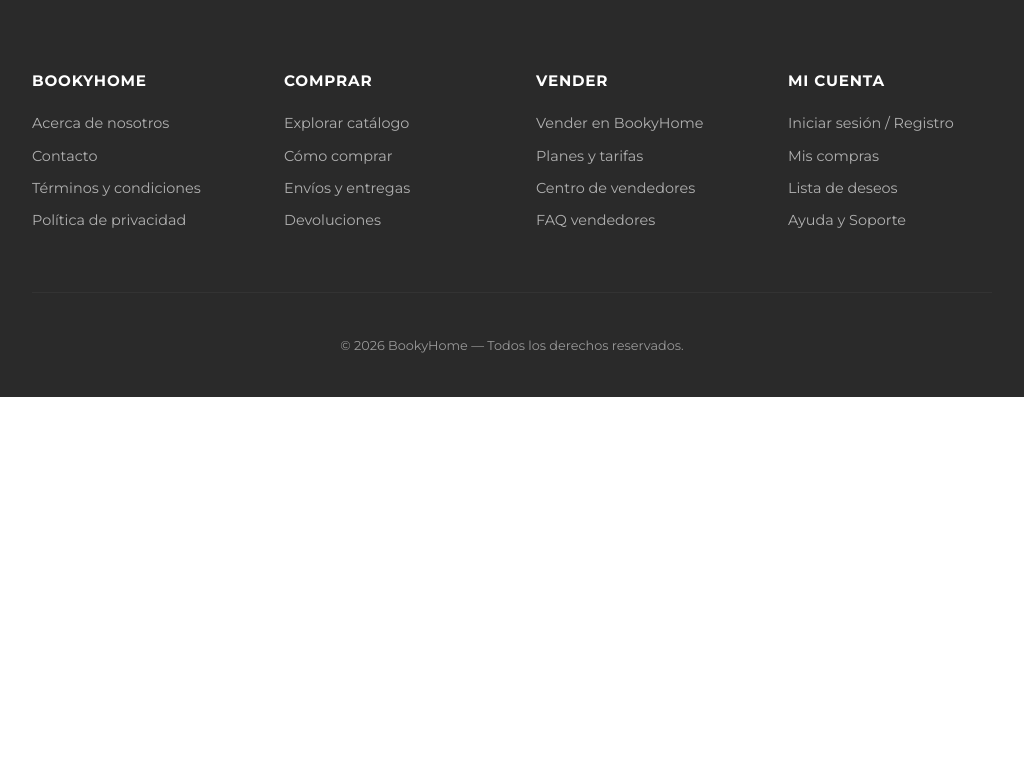
Footer — legal modals open and close › opens Devoluciones modal
Click the button "Devoluciones": point(332, 220) [284,211,381,229]
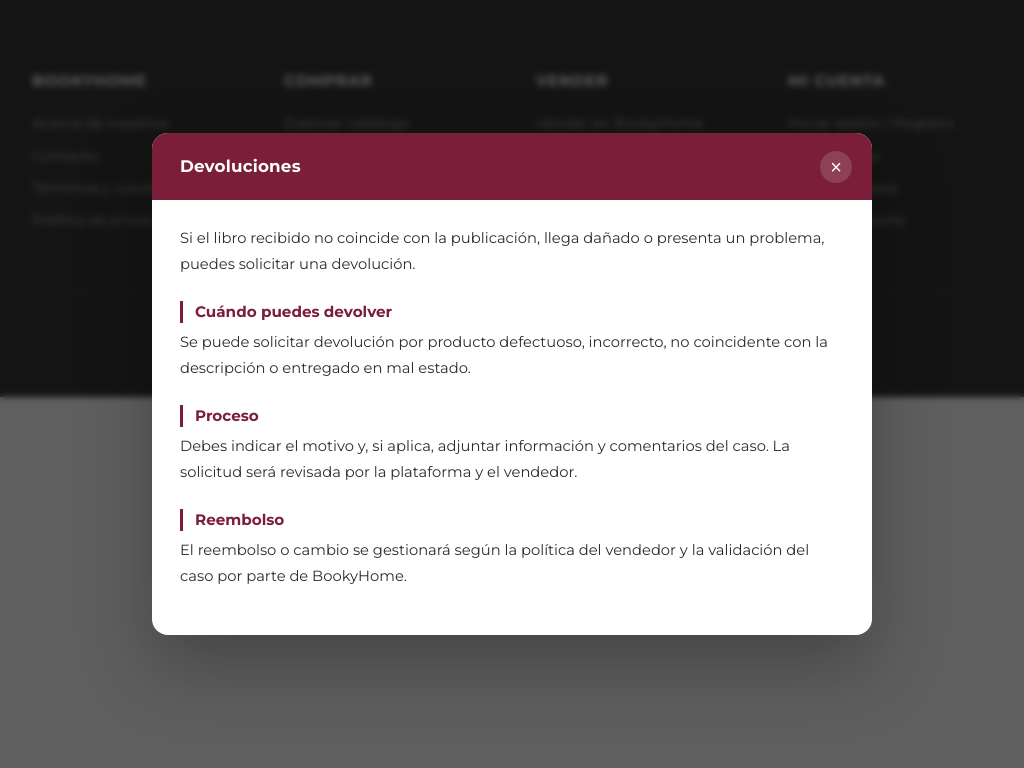
Expected: the dialog shows "Devoluciones", [180,156,301,176]
